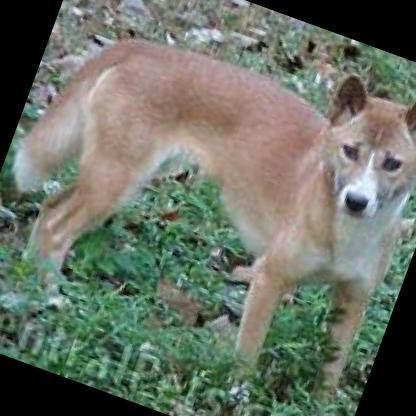dingo: (0, 0, 416, 412)
